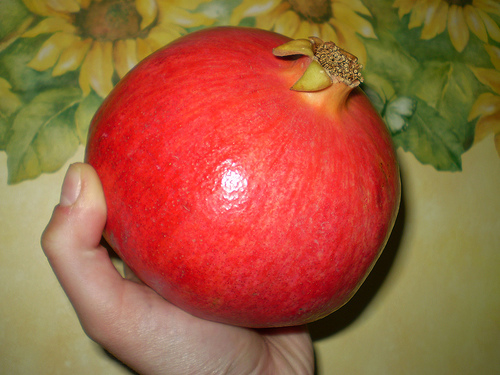pomogranate: (84, 27, 401, 328)
